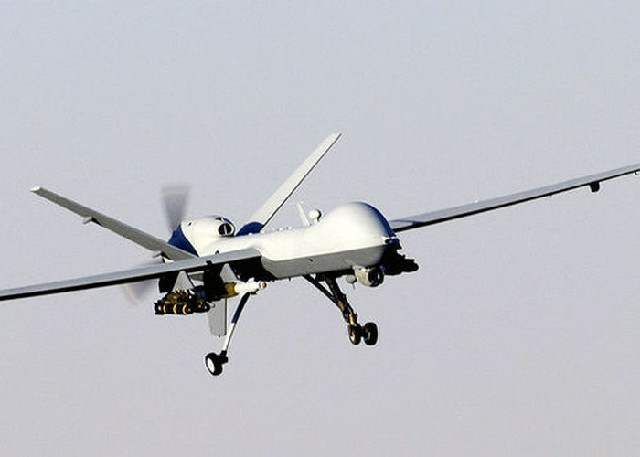maybay_khongnguoilai: (12, 147, 640, 350)
